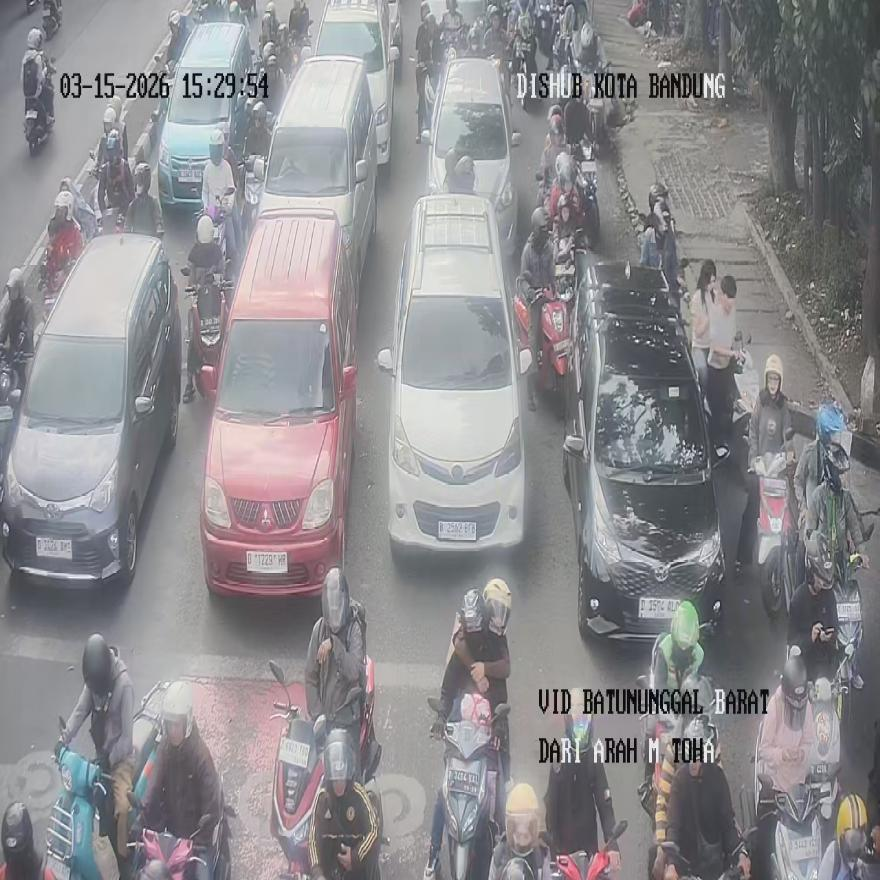Motor: (0, 233, 180, 588), (196, 206, 358, 596), (562, 260, 726, 640), (377, 193, 532, 556), (253, 55, 376, 297), (421, 54, 516, 253), (157, 22, 252, 211), (312, 0, 400, 165)
Truk: (44, 681, 166, 880), (269, 658, 379, 878), (753, 677, 841, 879), (426, 695, 510, 879), (637, 672, 719, 818), (514, 274, 572, 413), (747, 449, 794, 617), (702, 332, 756, 467), (133, 810, 231, 880), (181, 265, 231, 402), (0, 346, 33, 495), (89, 131, 133, 231), (552, 821, 626, 880), (23, 55, 55, 153), (572, 140, 600, 250), (511, 34, 536, 110), (552, 35, 572, 104), (534, 4, 555, 64), (41, 0, 61, 40)
